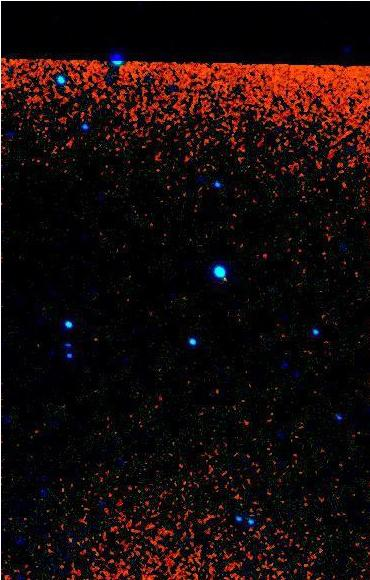star: (209, 264, 239, 294)
